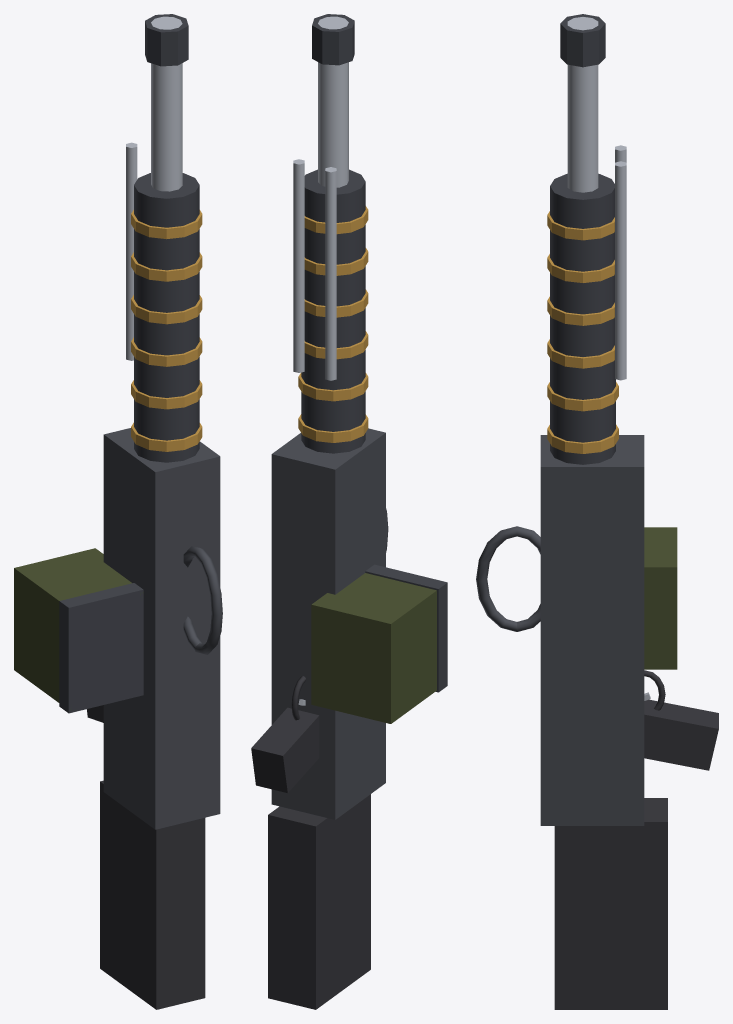
The model's file is machine_gun.glb.
3 views of the same model, side by side, from view 1: azimuth 30°, elevation 25°; view 2: azimuth 150°, elevation 25°; view 3: azimuth 270°, elevation 25° (orthographic). The views are drawn at different scales.
Parts seen in each view (by area): view 1: MachineGun_Gunmetal, MachineGun_Darksteel, MachineGun_Polymer, MachineGun_Olive, MachineGun_Steel, MachineGun_Brass; view 2: MachineGun_Gunmetal, MachineGun_Polymer, MachineGun_Olive, MachineGun_Darksteel, MachineGun_Steel, MachineGun_Brass; view 3: MachineGun_Gunmetal, MachineGun_Polymer, MachineGun_Darksteel, MachineGun_Steel, MachineGun_Brass, MachineGun_Olive.
Boxes of the visible parts, left/top/right/bottom form: MachineGun_Gunmetal: left=103, top=428, right=222, bottom=829; MachineGun_Darksteel: left=59, top=14, right=199, bottom=713; MachineGun_Polymer: left=87, top=705, right=205, bottom=1009; MachineGun_Olive: left=14, top=548, right=143, bottom=702; MachineGun_Steel: left=126, top=16, right=182, bottom=360; MachineGun_Brass: left=131, top=210, right=202, bottom=451; MachineGun_Gunmetal: left=271, top=428, right=388, bottom=819; MachineGun_Polymer: left=251, top=676, right=370, bottom=1009; MachineGun_Olive: left=311, top=573, right=436, bottom=723; MachineGun_Darksteel: left=301, top=14, right=447, bottom=692; MachineGun_Steel: left=293, top=16, right=348, bottom=705; MachineGun_Brass: left=298, top=206, right=368, bottom=442; MachineGun_Gunmetal: left=476, top=435, right=644, bottom=825; MachineGun_Polymer: left=554, top=670, right=718, bottom=1009; MachineGun_Darksteel: left=550, top=14, right=615, bottom=464; MachineGun_Steel: left=567, top=17, right=650, bottom=700; MachineGun_Brass: left=547, top=211, right=618, bottom=453; MachineGun_Olive: left=644, top=527, right=677, bottom=669.
Size of the model in its own units: 0.172 by 1.14 by 0.2576.
